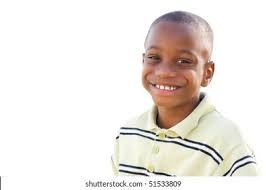person: (140, 11, 216, 110)
